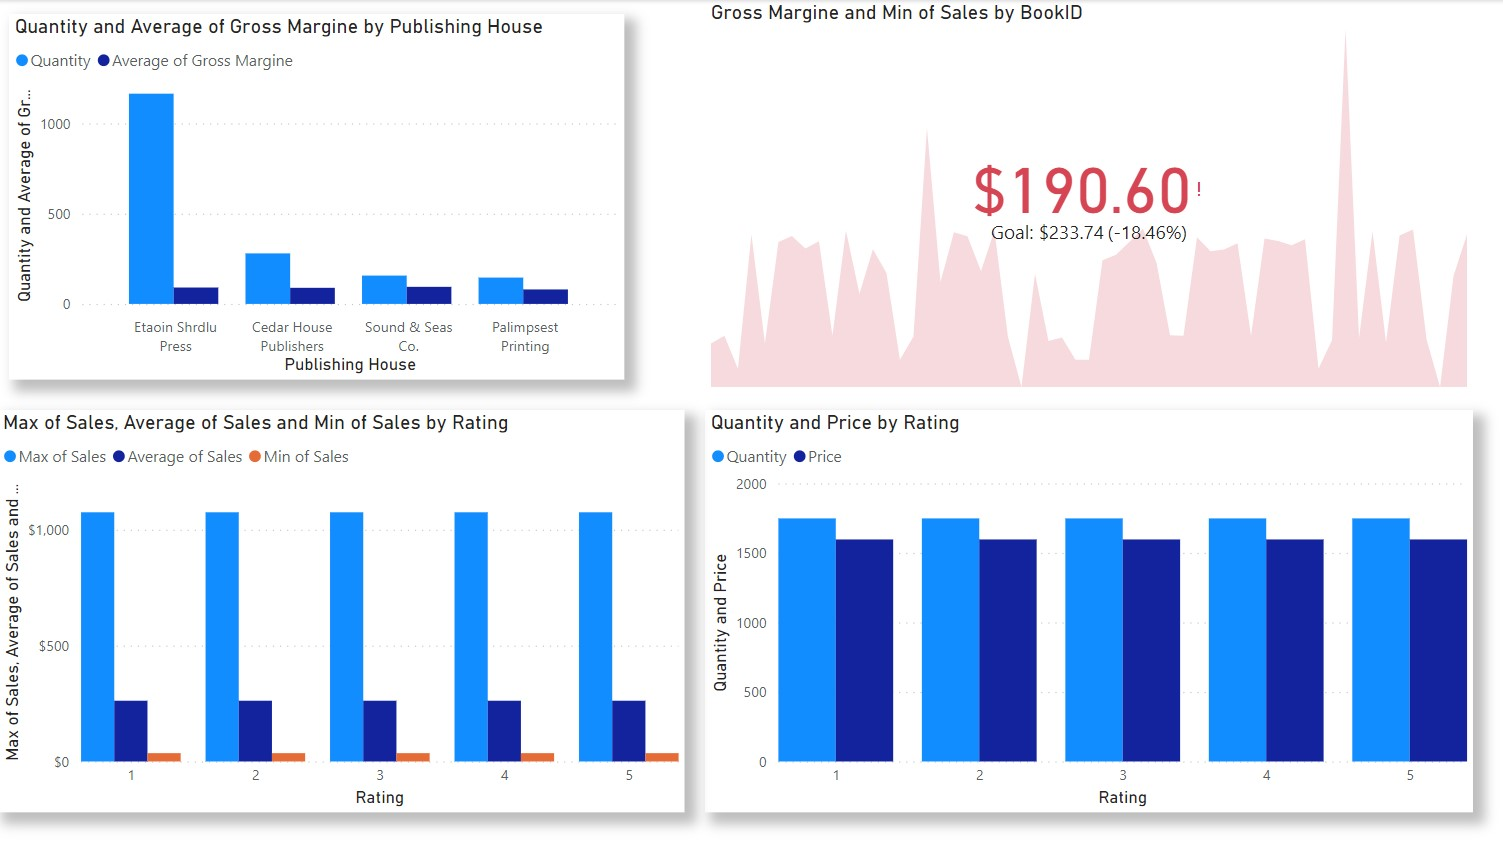

This screenshot's page, from the dashboard's own definition file:
{"tool":"powerbi","page":{"name":"Page 3","canvas":[1280,720],"ordinal":3},"visuals":[{"type":"clusteredColumnChart","fields":{"Category":["publisher.Publishing House"],"Y":["Sum(edition.Quantity)","Avg(edition.Gross Margine)"]},"box":[9.7,11.7,520.4,309.3],"z":0},{"type":"clusteredColumnChart","fields":{"Y":["Sum(edition.Quantity)","Sum(edition.Price)"],"Category":["ratings(1).Rating"]},"box":[598.2,346.3,648.8,340.4],"z":1000},{"type":"lineClusteredColumnComboChart","fields":{"Category":["ratings(1).Rating"],"Y":["Max(edition.Sales)","Avg(edition.Sales)","Min(edition.Sales)"]},"box":[0,346.3,580.7,340.4],"z":2000},{"type":"kpi","fields":{"Indicator":["Sum(edition.Gross Margine)"],"Goal":["Min(edition.Sales)"],"TrendLine":["BooksShop.BookID"]},"box":[598,0,649,332],"z":3000}]}

Visuals, with their boxes in screenshot pixels (x1, y1, x2, y2), scaled from the page's 1280x720 canvas onto the 1503x841 screenshot:
clusteredColumnChart - publisher.Publishing House x Sum(edition.Quantity): [11, 14, 622, 375]
clusteredColumnChart - Sum(edition.Quantity) x Sum(edition.Price): [702, 404, 1464, 802]
lineClusteredColumnComboChart - ratings(1).Rating x Max(edition.Sales): [0, 404, 682, 802]
kpi - Sum(edition.Gross Margine) x Min(edition.Sales): [702, 0, 1464, 388]
